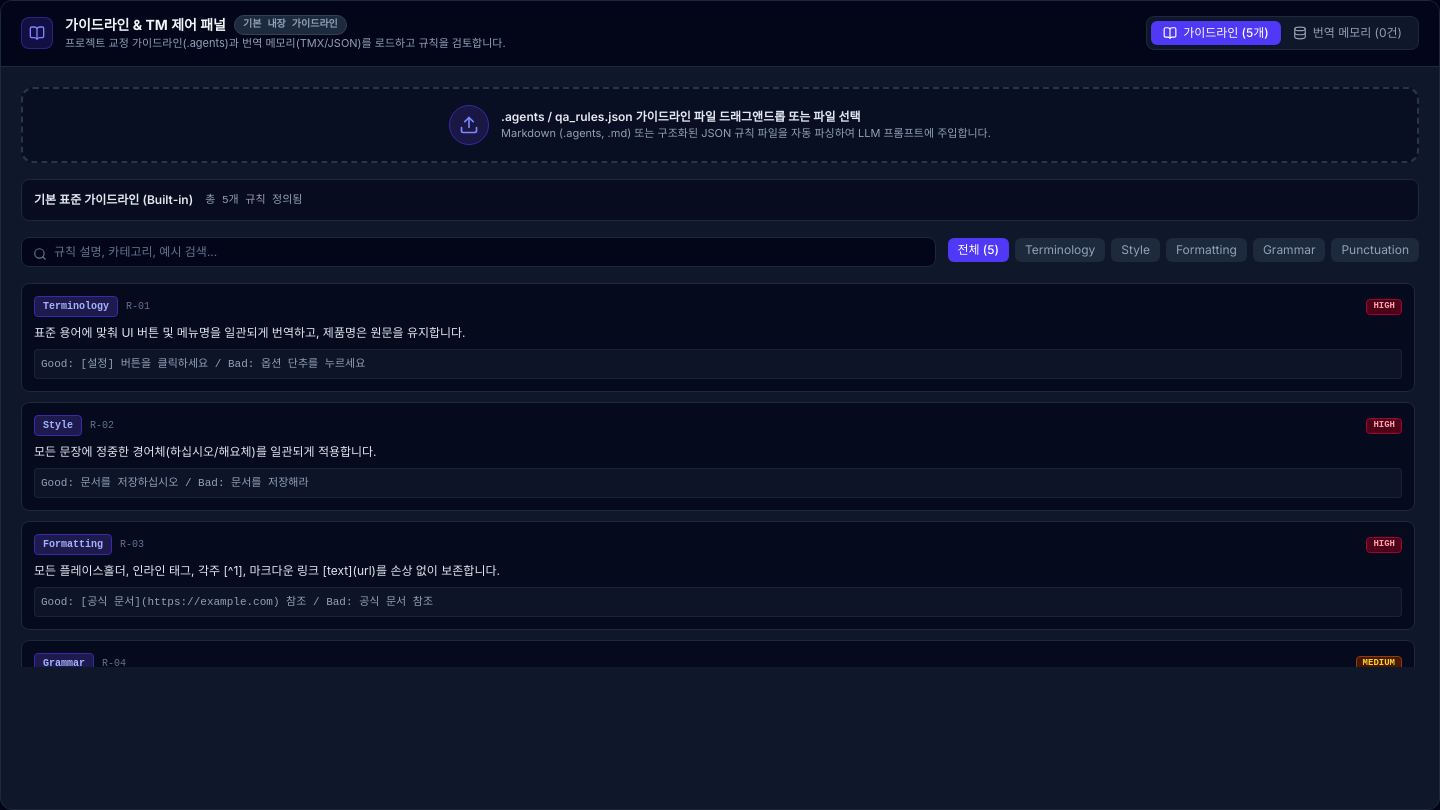
GuidelineViewer Component › should filter rules by search keyword input
Type "피동형" into the field with test id "guideline-search-input" at (478, 252), box x1=21 y1=237 x2=936 y2=267
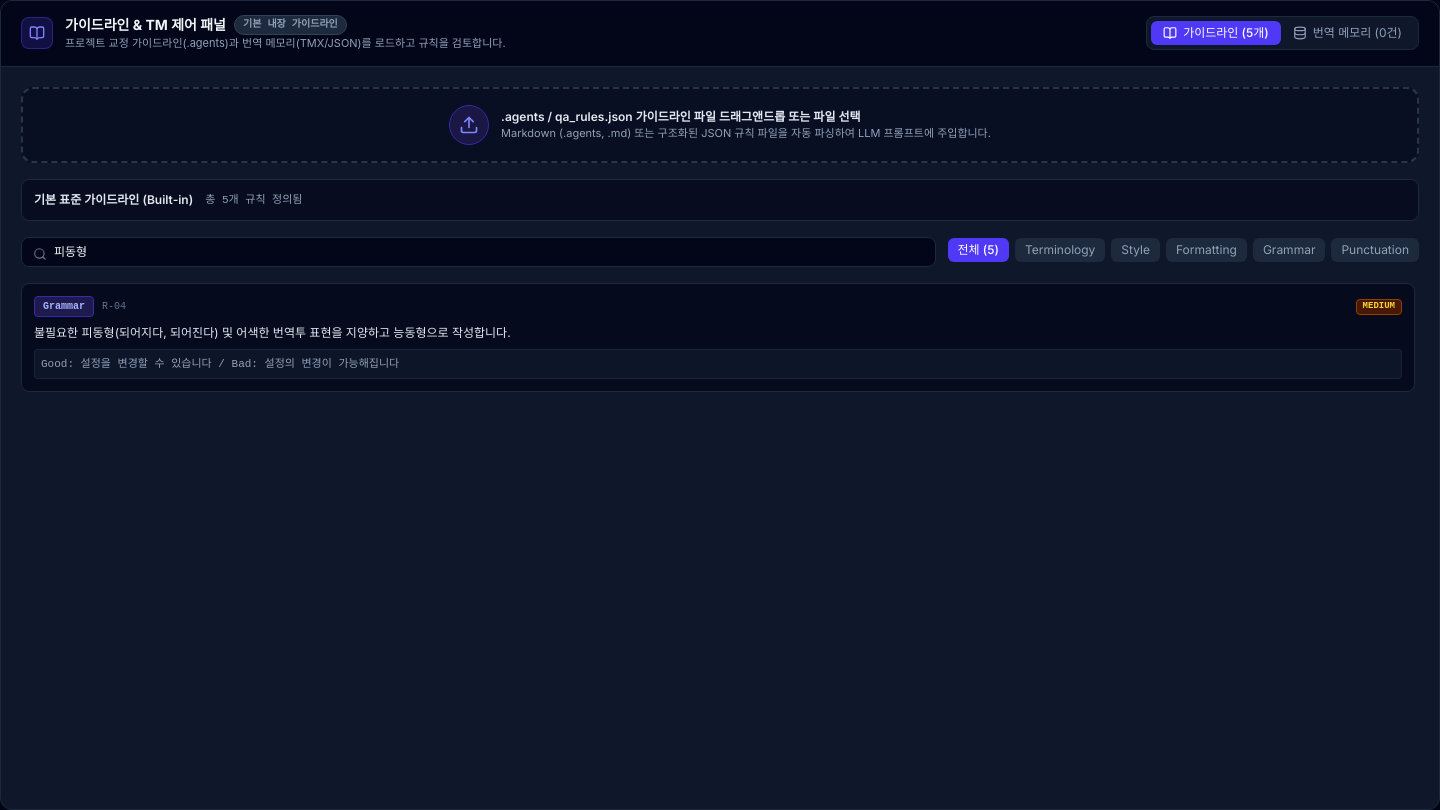
Result: the number of elements with test id "guideline-rule-item" is 1 at x1=21 y1=283 x2=1415 y2=392
Result: the element with test id "guideline-rule-item" shows "피동형" at x1=34 y1=325 x2=511 y2=340
